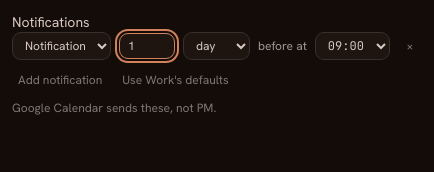
Test case: ReminderList › an all-day row of 0 days says to pick at least 1 day, whatever its time
The width and height of the screenshot is (434, 172).
Replace the text in the field named "How many: 1 day before at 09:00" with "0". click: (147, 46)
box: left=119, top=33, right=175, bottom=59
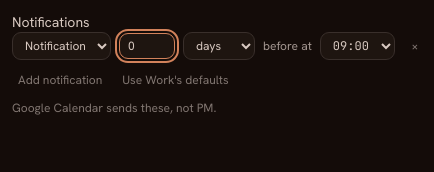
Leave the field named "How many: 1 day before at 09:00", box left=119, top=33, right=175, bottom=59
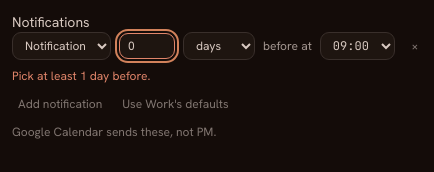
Now the text "Pick at least 1 day before." is shown, box left=12, top=68, right=150, bottom=84
